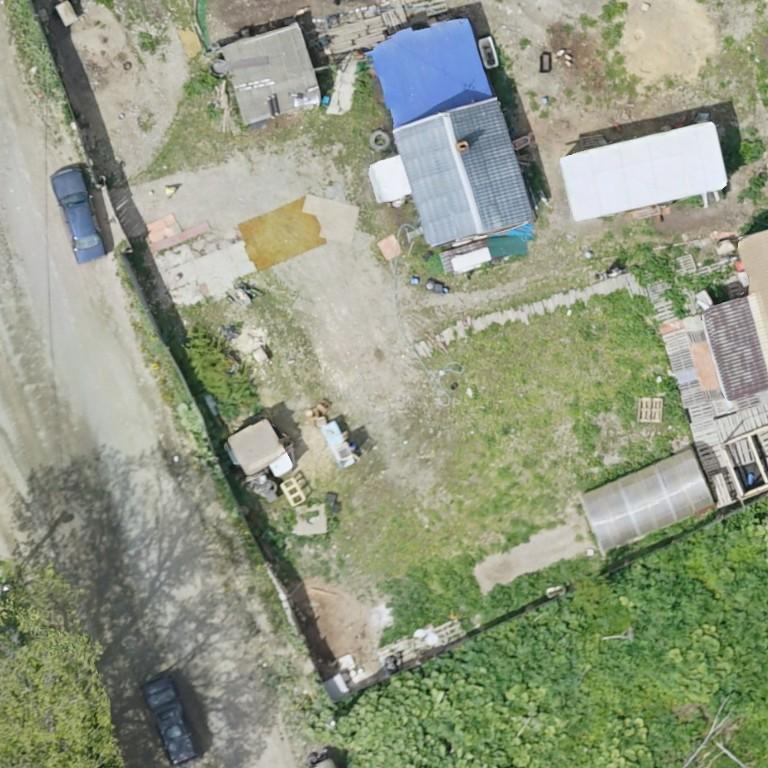hogweed: (599, 564, 767, 720), (431, 596, 584, 702)
